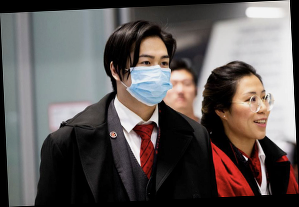with_mask: (125, 53, 173, 108)
without_mask: (228, 88, 272, 141), (165, 69, 197, 111)
